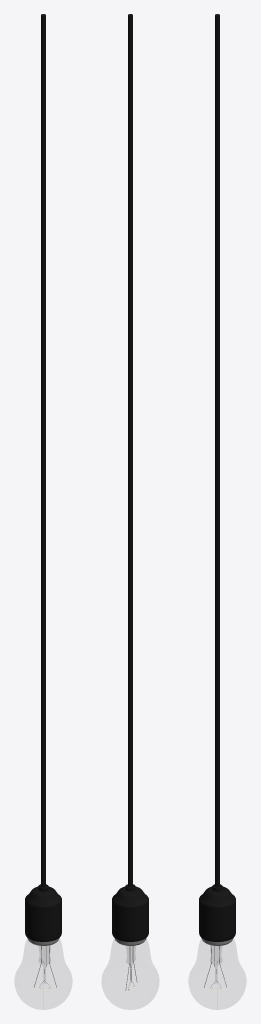
File: lightbulb.glb
3 views of the same model, side by side, from view 1: azimuth 90°, elevation 25°; view 2: azimuth 150°, elevation 25°; view 3: azimuth 270°, elevation 25° (orthographic).
Parts seen in each view (by area): view 1: ALL_LAMP; view 2: ALL_LAMP; view 3: ALL_LAMP.
Boxes of the visible parts, x1,y1,x2,y2 form: ALL_LAMP: (25, 14, 61, 1009); ALL_LAMP: (112, 14, 148, 992); ALL_LAMP: (199, 14, 235, 1009).
Size of the model in its own units: 0.1564 by 2.94 by 0.1564.
2 materials, 2 textured.
